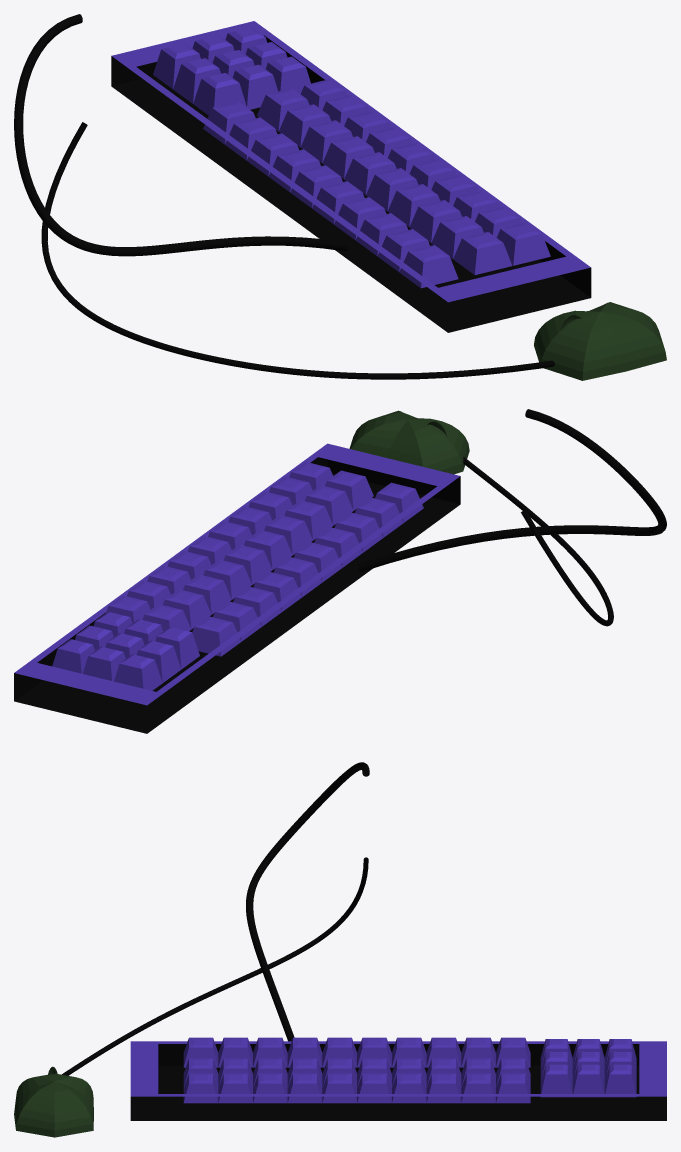
Rendered from pcTecladoRaton.fbx.
3 renders of one model, top to bottom at view 1: azimuth 30°, elevation 25°; view 2: azimuth 150°, elevation 25°; view 3: azimuth 270°, elevation 25°, orthographic. The views are drawn at different scales.
Visible parts, largest first — view 1: NurbsPath.002; view 2: NurbsPath.002; view 3: NurbsPath.002.
Boxes of the visible parts, x1=… form: NurbsPath.002: x1=14, y1=14, x2=666, y2=380; NurbsPath.002: x1=14, y1=409, x2=666, y2=733; NurbsPath.002: x1=14, y1=762, x2=666, y2=1137.
Bounding box in the file's own units: 354 × 197 × 521.
